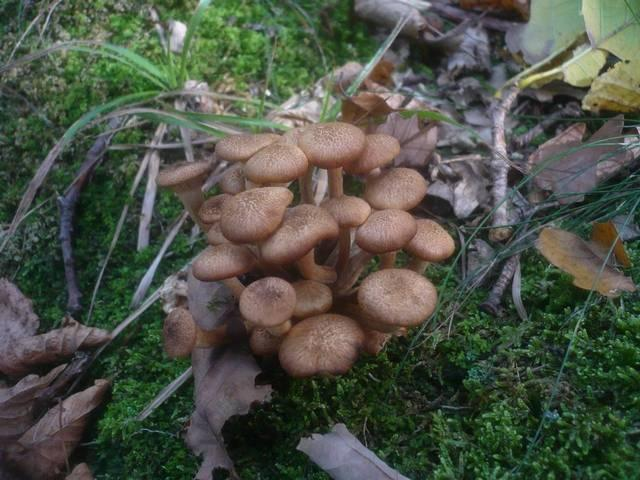Edible Mushroom: (155, 119, 455, 378)
